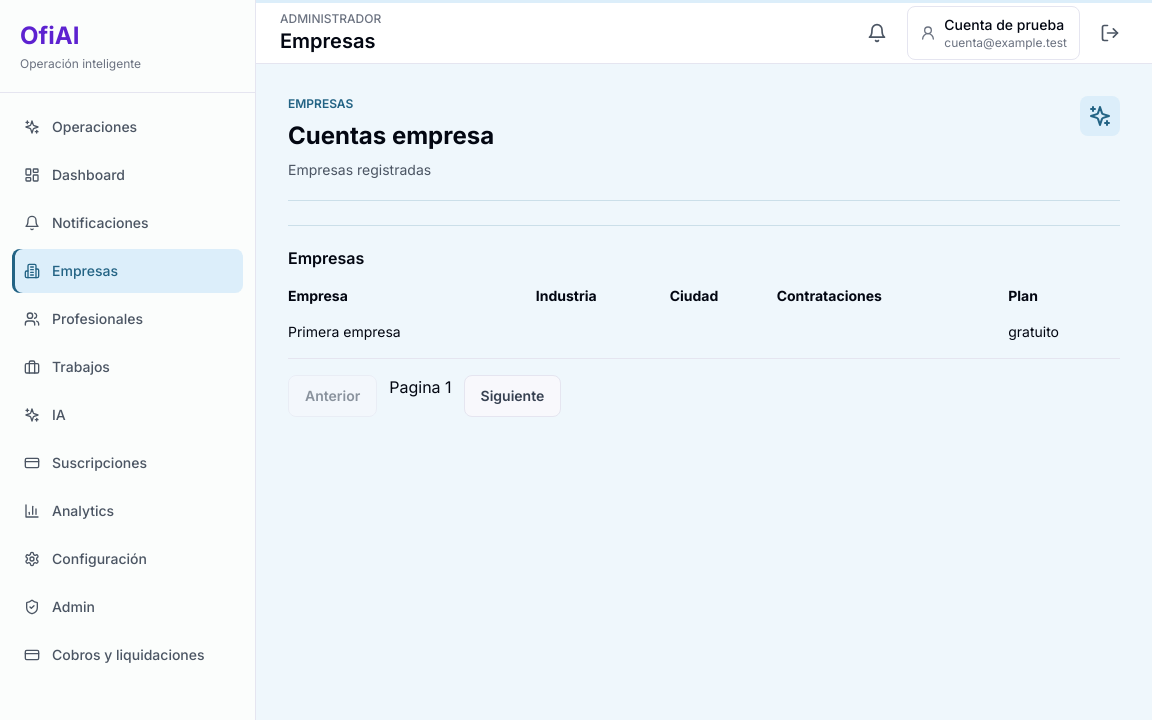
Test: Pantallas conectadas a la API › respeta la paginacion que la API devuelve fuera de datos
This screenshot has width=1152, height=720.
Expected: the text "Primera empresa" is shown, [288,306,536,358]
Click the button "Siguiente" at (512, 396), box [464,375,561,417]
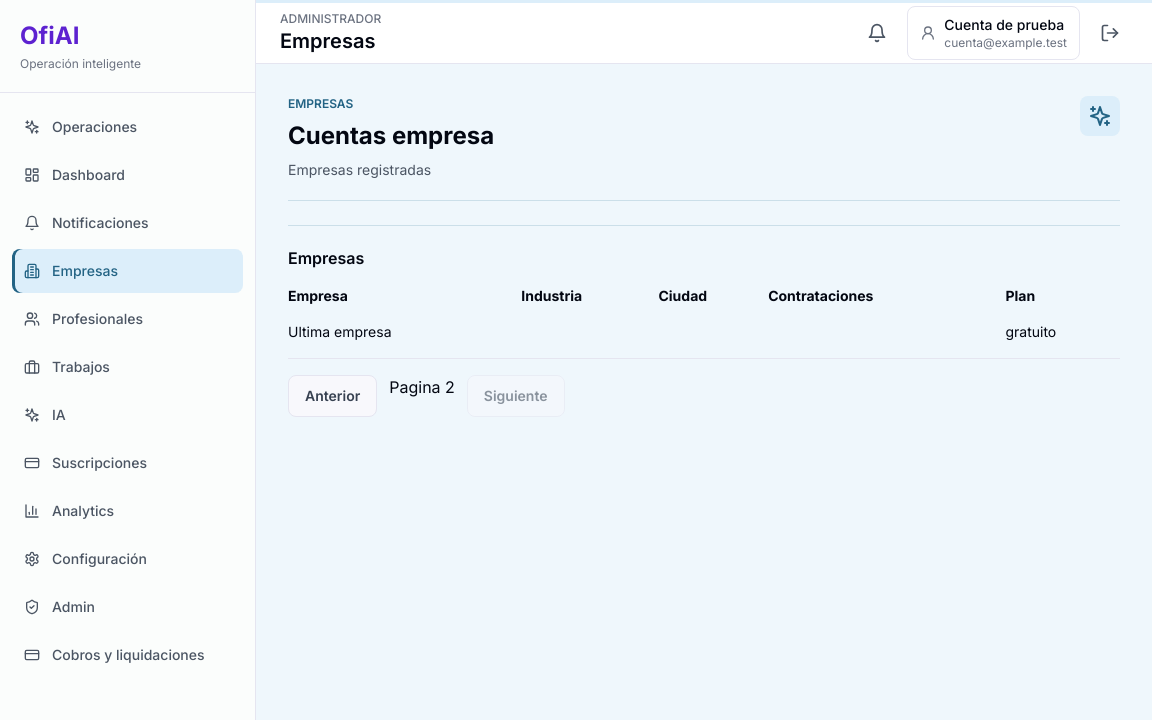
Expected: the text "Ultima empresa" is shown, [288,306,521,358]
Expected: the text "Primera empresa" is gone
Expected: the button "Siguiente" is disabled, [467,375,564,417]
